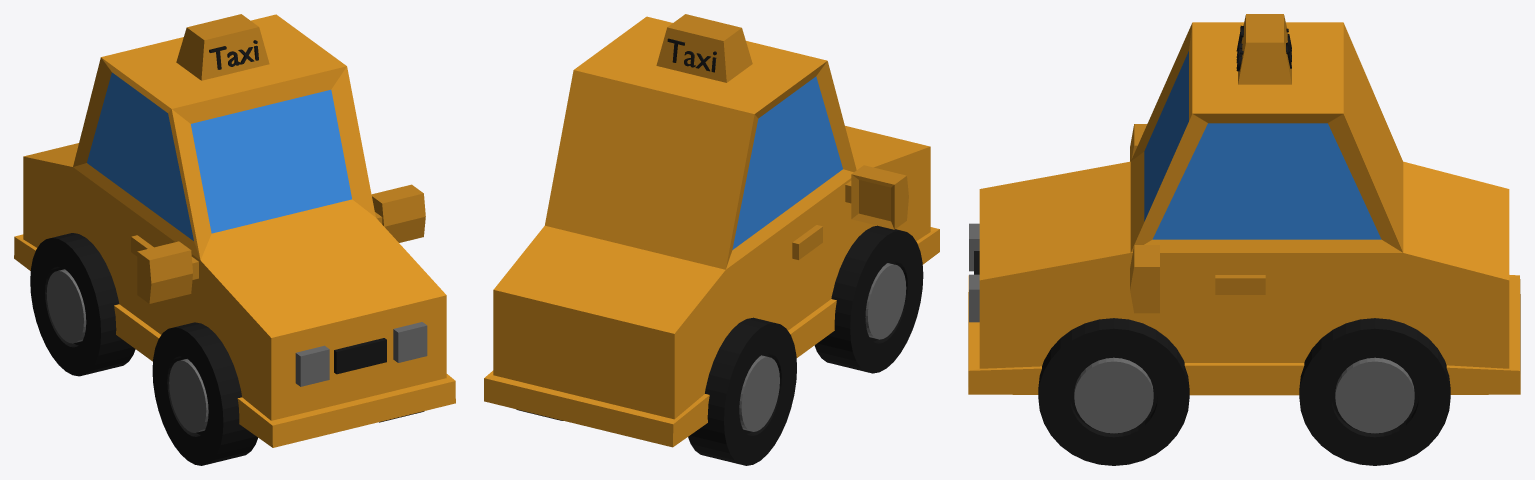
Rendered from taxi.fbx.
The picture shows the model from 3 angles, left to right: view 1: azimuth 30°, elevation 25°; view 2: azimuth 150°, elevation 25°; view 3: azimuth 270°, elevation 25°; orthographic projection. The views are drawn at different scales.
Parts seen in each view (by area): view 1: Cube; view 2: Cube; view 3: Cube.
Boxes of the visible parts, x1=… form: Cube: x1=14, y1=14, x2=455, y2=465; Cube: x1=484, y1=14, x2=939, y2=465; Cube: x1=968, y1=14, x2=1520, y2=465.
Size of the model in its own units: 313 by 388 by 511.
